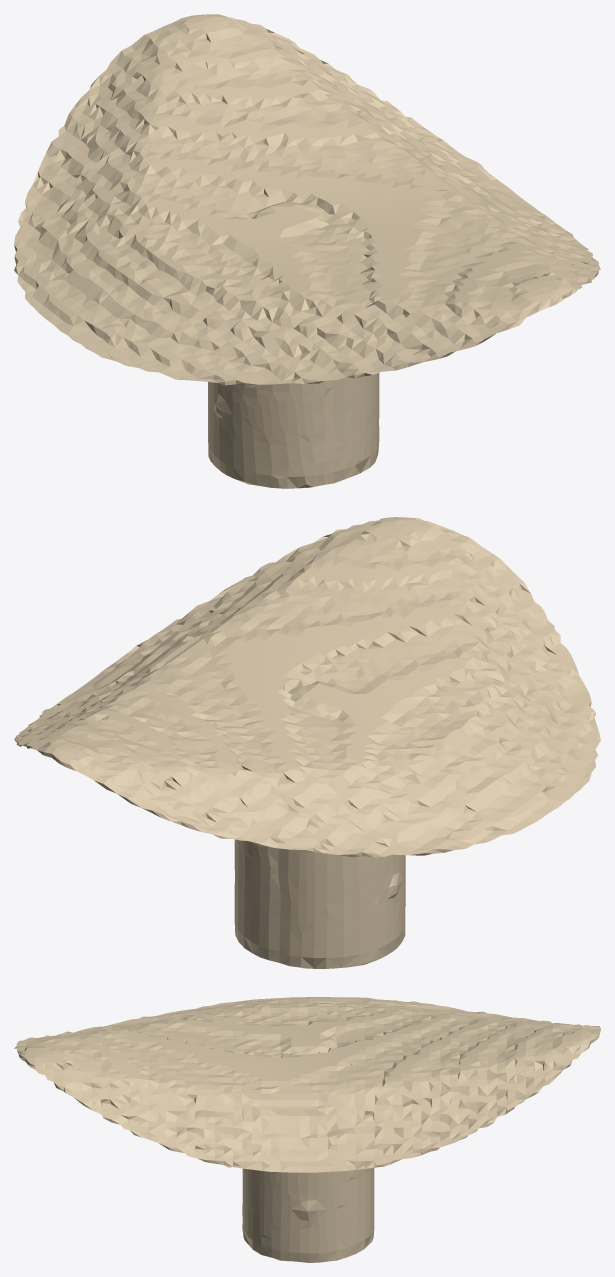
The model's file is skulptur-10.glb.
The picture shows the model from 3 angles, top to bottom: view 1: azimuth 30°, elevation 25°; view 2: azimuth 150°, elevation 25°; view 3: azimuth 270°, elevation 25°; orthographic projection. The views are drawn at different scales.
Parts seen in each view (by area): view 1: skulptur-10; view 2: skulptur-10; view 3: skulptur-10.
Part boxes in pixels (x1,y1,x2,y2): skulptur-10: [14, 14, 600, 488]; skulptur-10: [14, 517, 600, 968]; skulptur-10: [14, 997, 600, 1262].
Bounding box in the file's own units: 0.7317 × 0.4327 × 0.9886.
